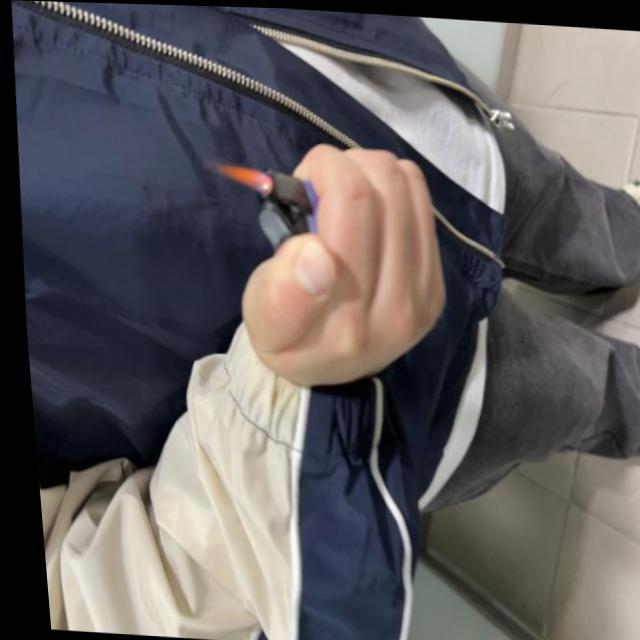Fire: (204, 157, 273, 189)
